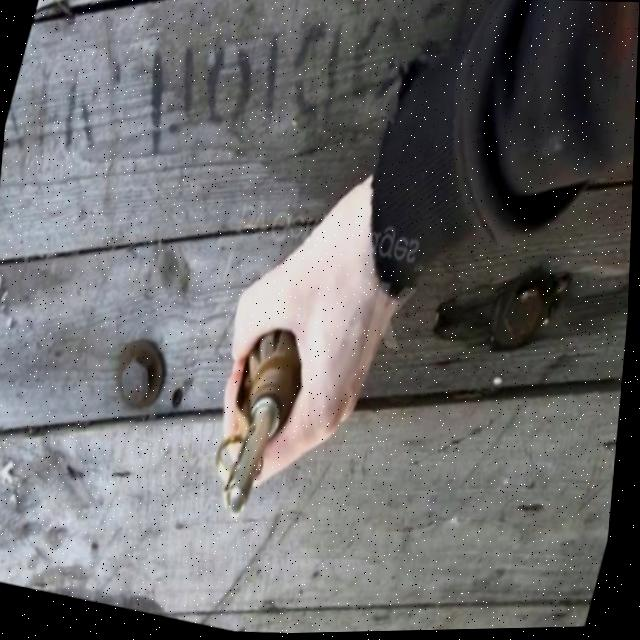grenade: (204, 321, 316, 532)
